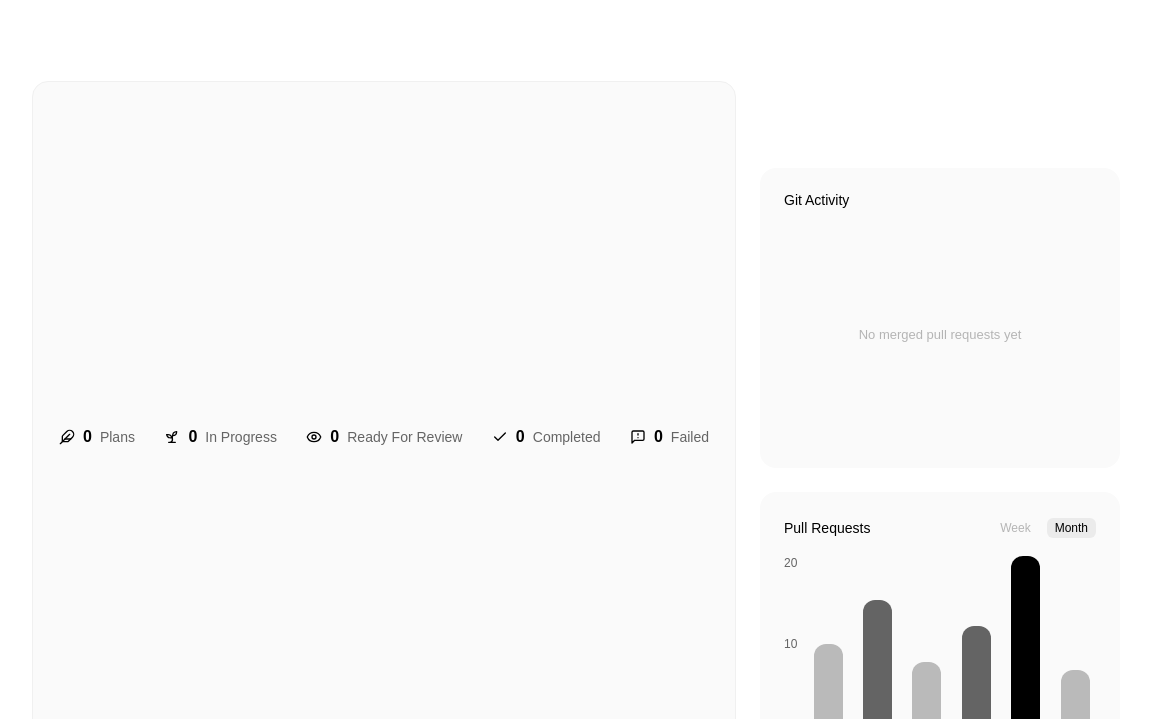
Test case: TendrilDashboard pull requests week/month toggle › switches to week view on click and restores month view when clicked again
# Switch to Week
Click the button "Week".
click(1015, 528)  # box [992,518,1039,538]
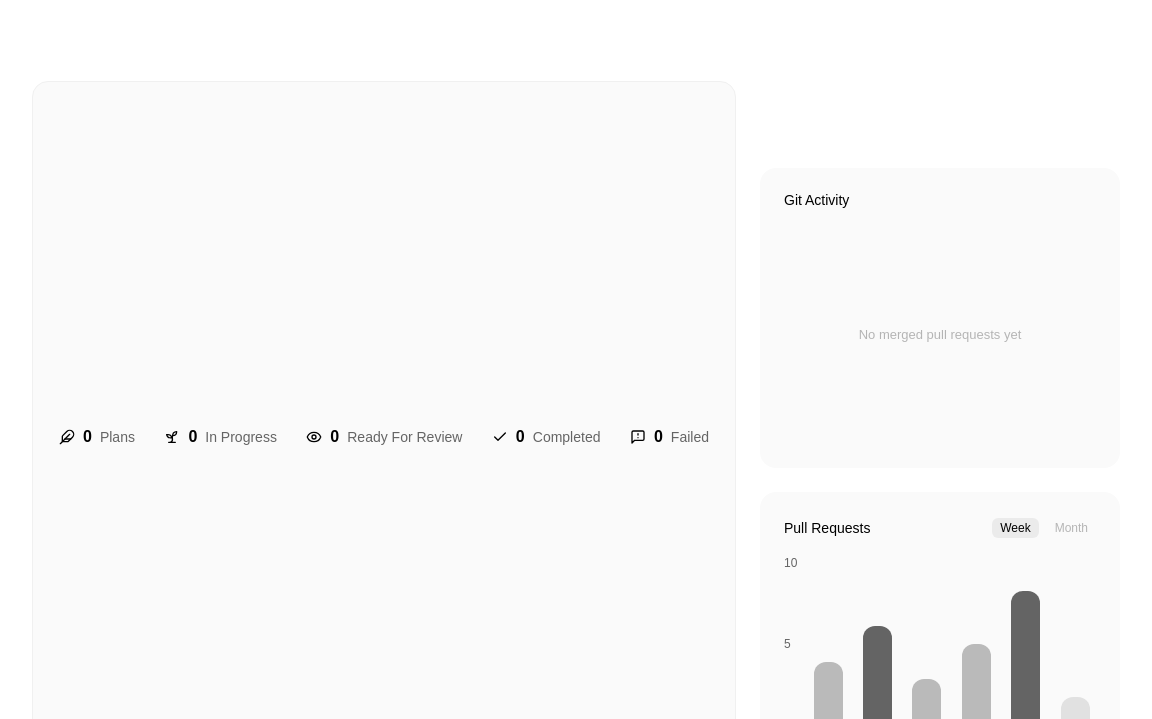
Check: the button "Week" has attribute data-active="true", box [992,518,1039,538]
Check: the button "Month" has attribute data-active="false"
# Switch back to Month
Click the button "Month".
click(1071, 528)  # box [1047,518,1096,538]
(page scrolled)
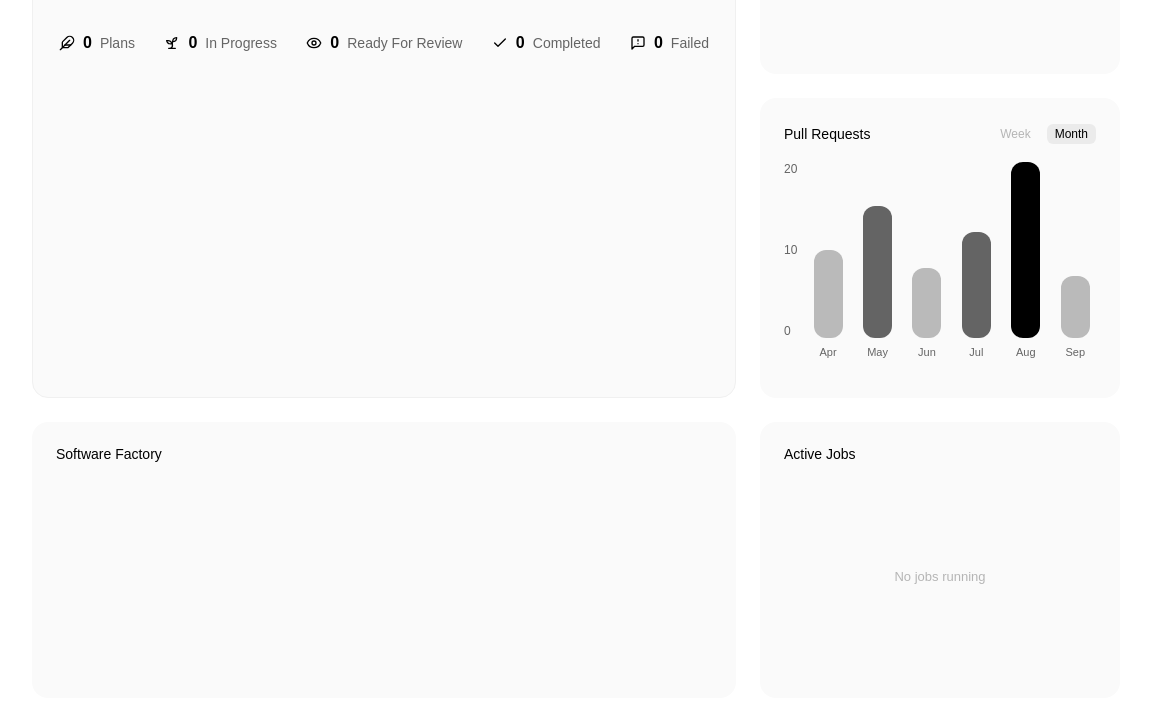
Check: the text "Apr" is shown, box [820,346,837,358]
